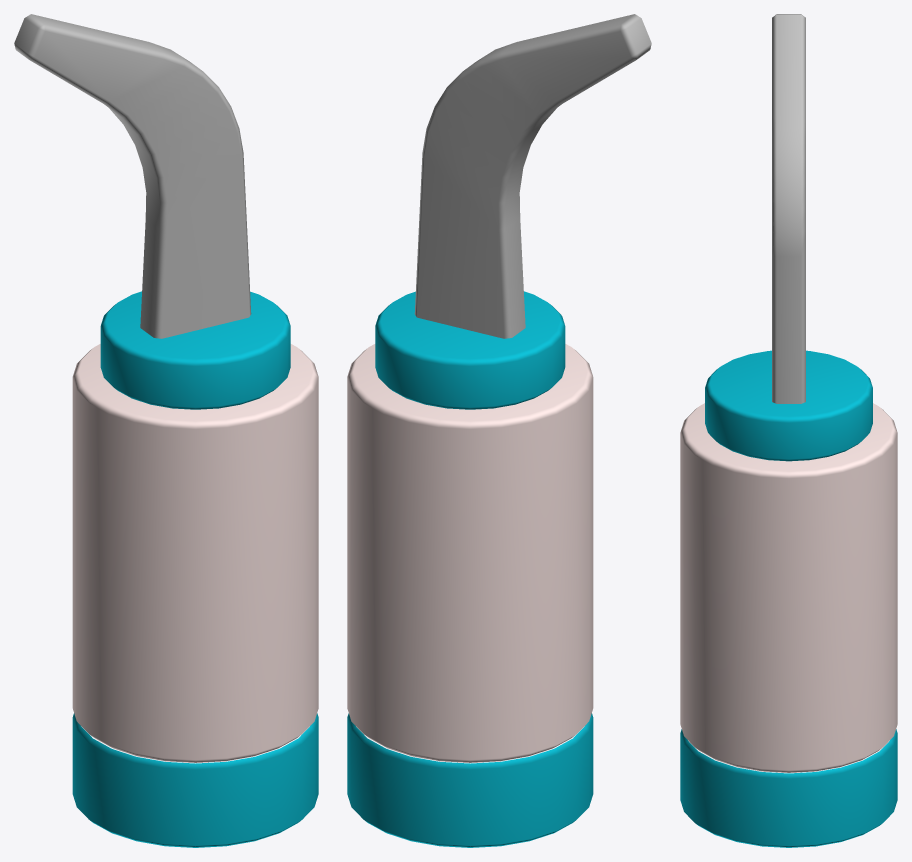
File: Public_20_Dental_Probe_1.glb
The picture shows the model from 3 angles, left to right: view 1: azimuth 30°, elevation 25°; view 2: azimuth 150°, elevation 25°; view 3: azimuth 270°, elevation 25°; orthographic projection. The views are drawn at different scales.
Visible parts, largest first — view 1: Public_20_Dental_Probe_1; view 2: Public_20_Dental_Probe_1; view 3: Public_20_Dental_Probe_1.
Part boxes in pixels (left/top/right/bottom): Public_20_Dental_Probe_1: left=14, top=14, right=318, bottom=847; Public_20_Dental_Probe_1: left=347, top=14, right=651, bottom=847; Public_20_Dental_Probe_1: left=680, top=14, right=897, bottom=847.
Bounding box in the file's own units: 0.8325 × 2.31 × 0.631.
1 material, 1 textured.
